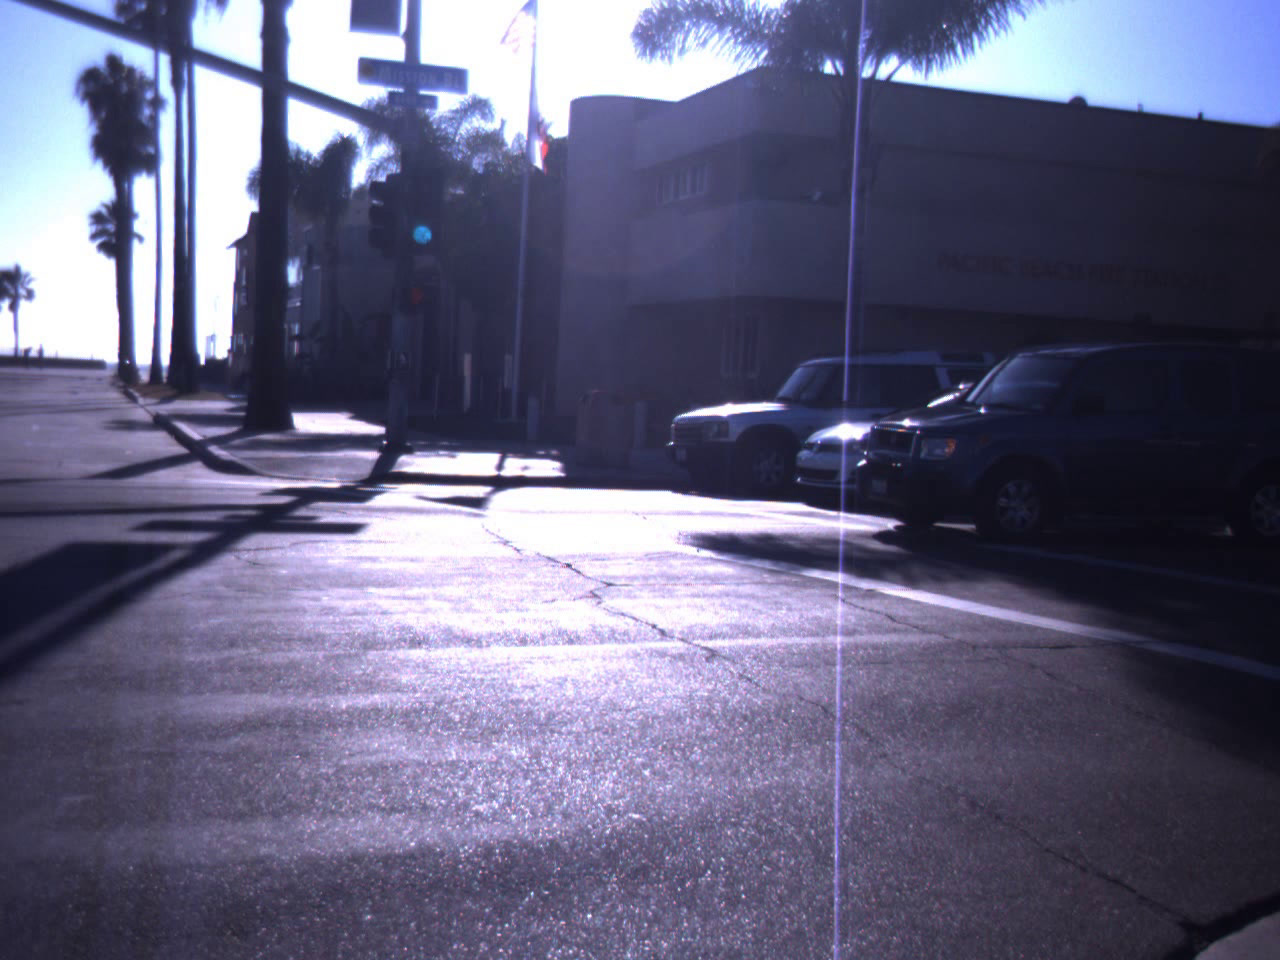green_light: (406, 175, 437, 253)
